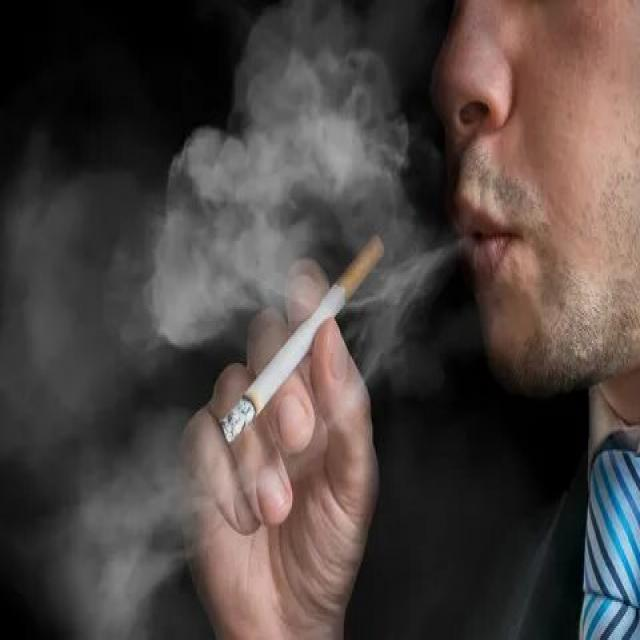cigarette: (223, 233, 388, 443)
